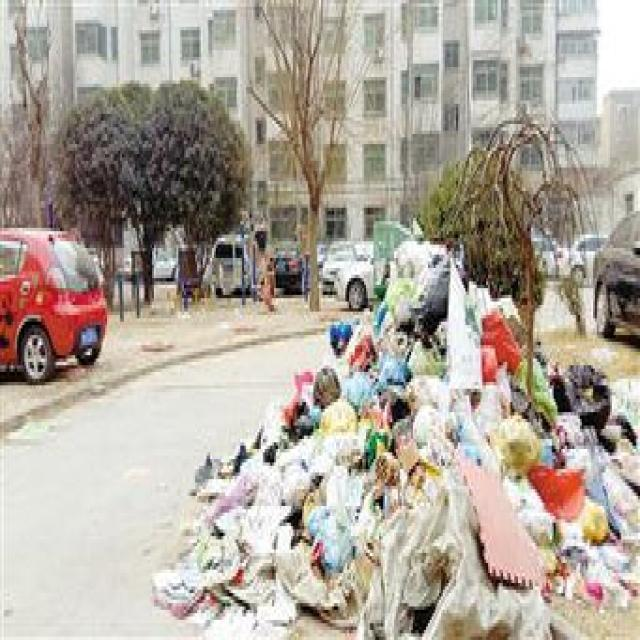garbage: (150, 214, 638, 636)
